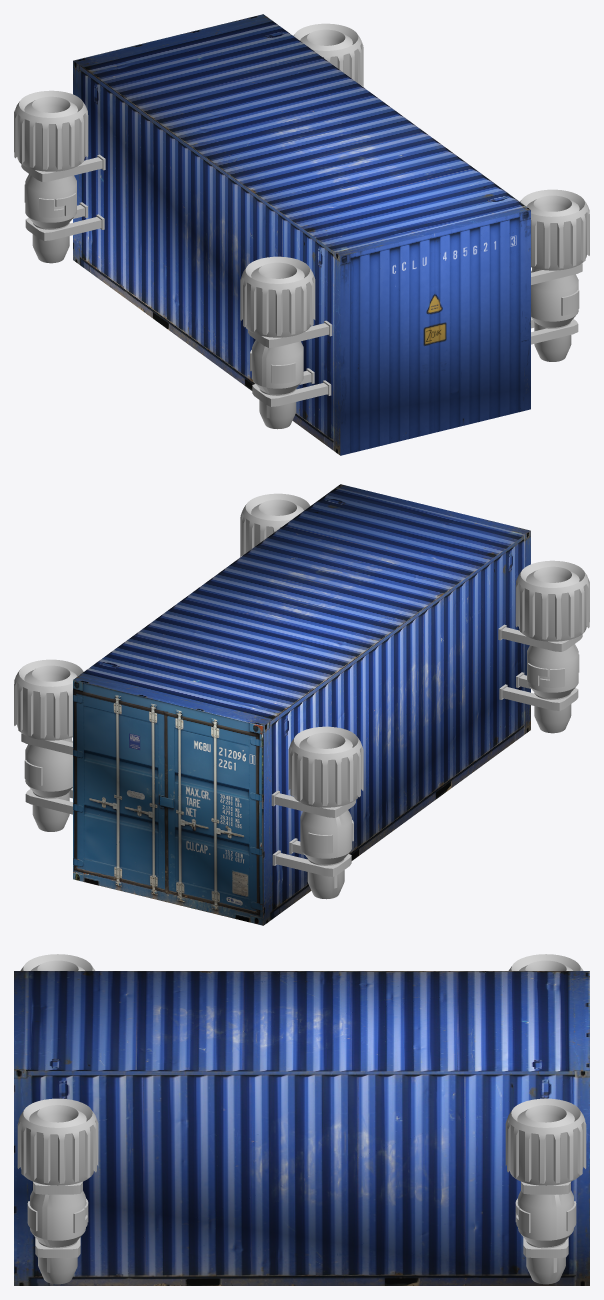
The model's file is ShippingContainer.fbx.
The picture shows the model from 3 angles, top to bottom: view 1: azimuth 30°, elevation 25°; view 2: azimuth 150°, elevation 25°; view 3: azimuth 270°, elevation 25°; orthographic projection. The views are drawn at different scales.
Parts seen in each view (by area): view 1: Cube; view 2: Cube; view 3: Cube.
Part boxes in pixels (x1,y1,x2,y2): Cube: (14, 14, 589, 455); Cube: (14, 484, 589, 925); Cube: (14, 954, 589, 1285).
Bounding box in the file's own units: 3.57 × 2 × 4.86.
